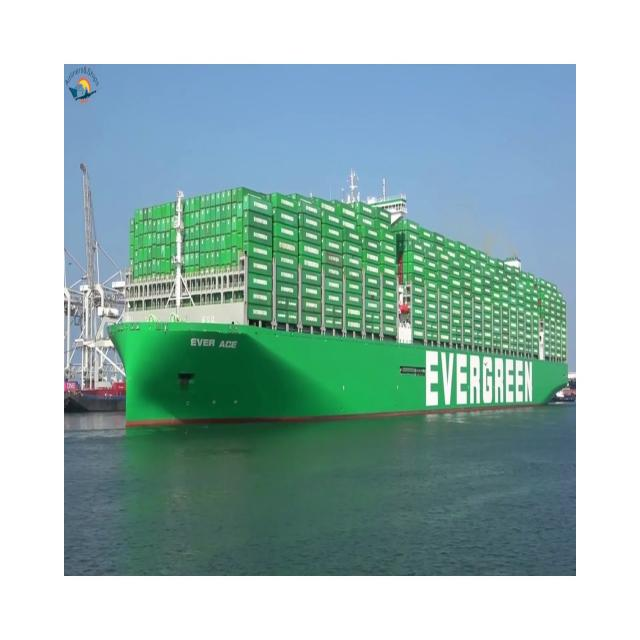OCR: (185, 327, 241, 358)
